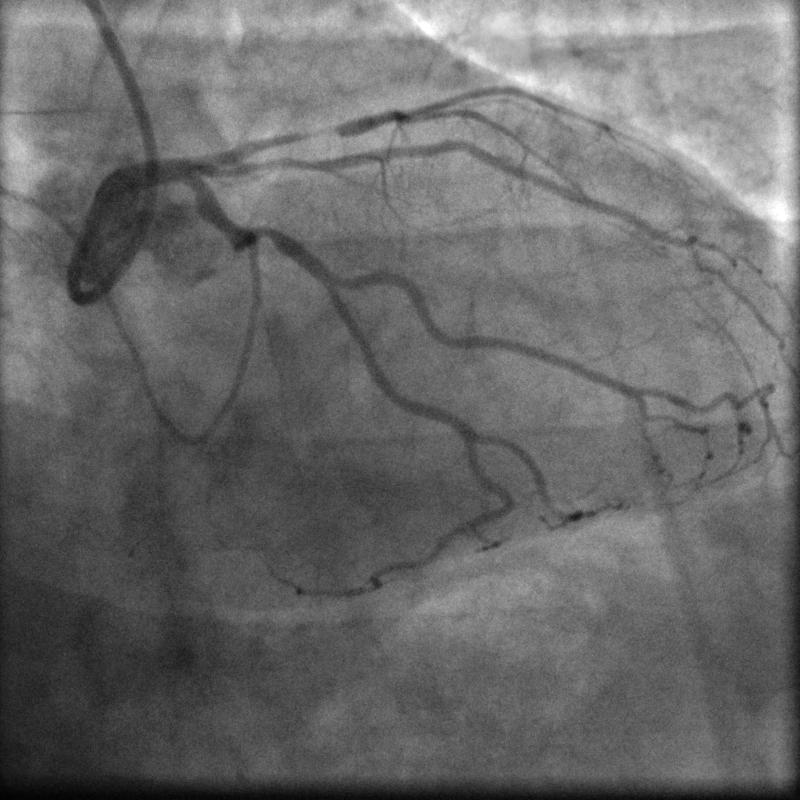Stenosis: (253, 218, 282, 247)
